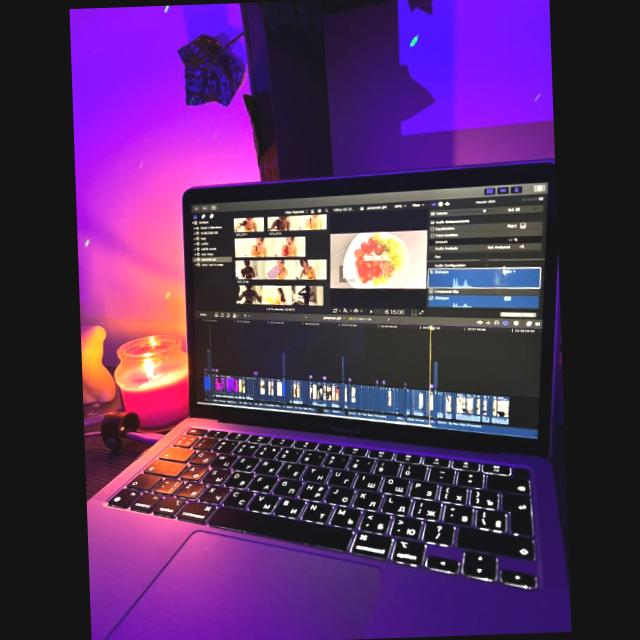laptop: (75, 164, 571, 640)
